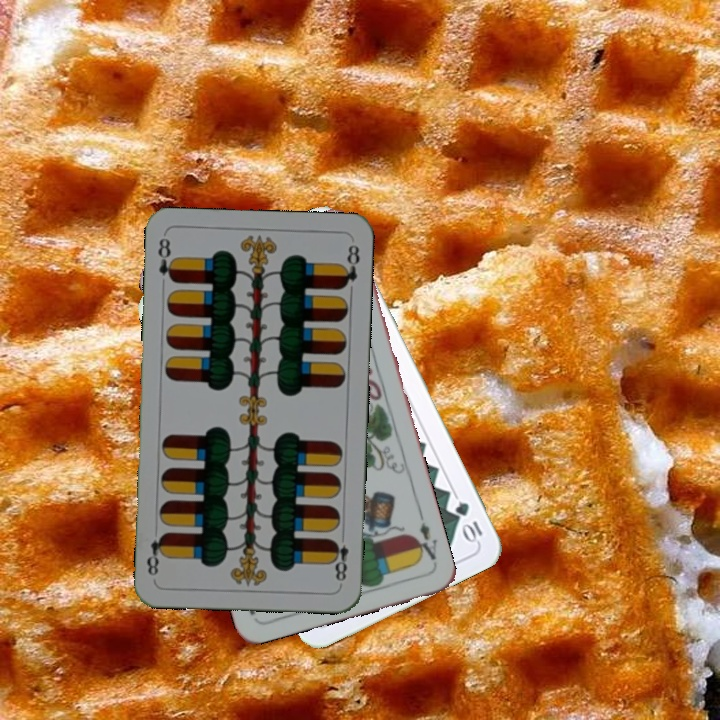E8: (328, 528, 351, 587), (153, 233, 178, 286)
EA: (410, 518, 440, 563)
G10: (451, 497, 485, 545)
